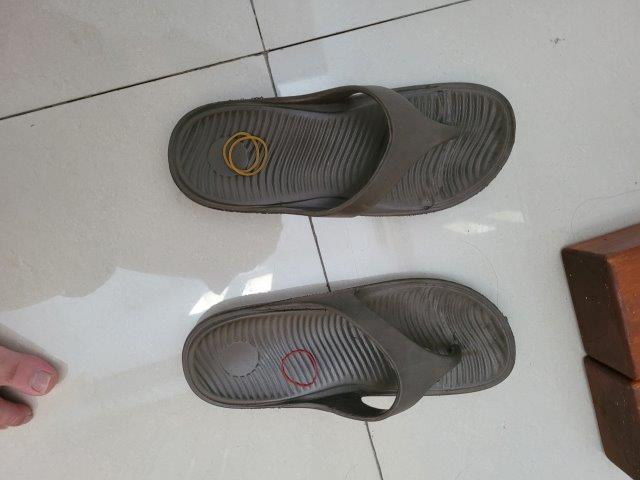karet: (221, 131, 269, 178), (280, 349, 321, 389)
